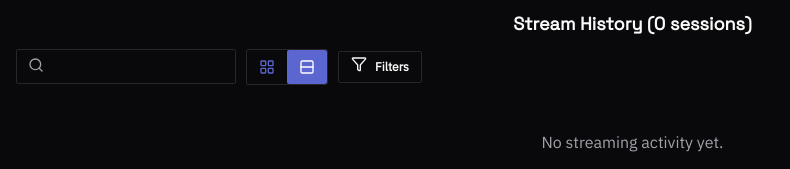
StreamHistoryPage › search › explains an empty result set when filtered
Type "nothing" into the field with placeholder "Search by video, IP, or client..." at (126, 67), box x1=16 y1=49 x2=236 y2=84
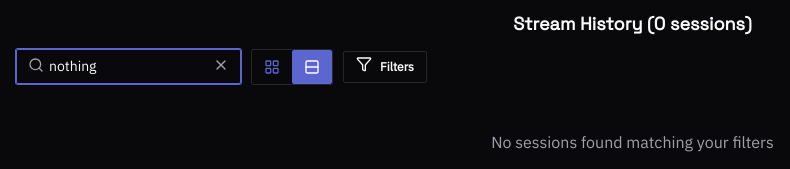
Now the text "No sessions found matching your filters" is shown, box x1=491 y1=132 x2=774 y2=152
